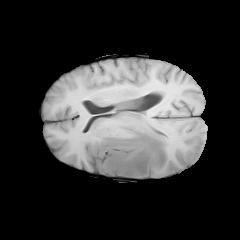glioma: (95, 125, 168, 178)
